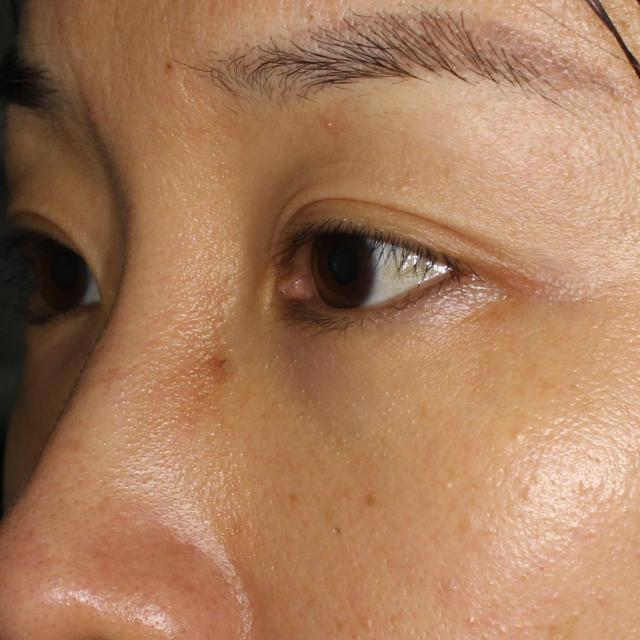blackhead: (160, 54, 180, 74), (330, 520, 348, 541), (337, 620, 344, 630), (289, 492, 295, 502)
